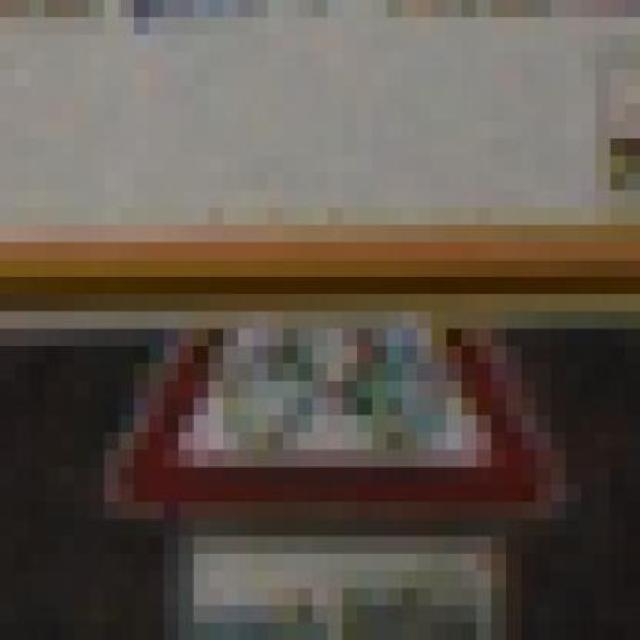CYCLE ROUTE AHEAD WARNING: (74, 276, 566, 536)
